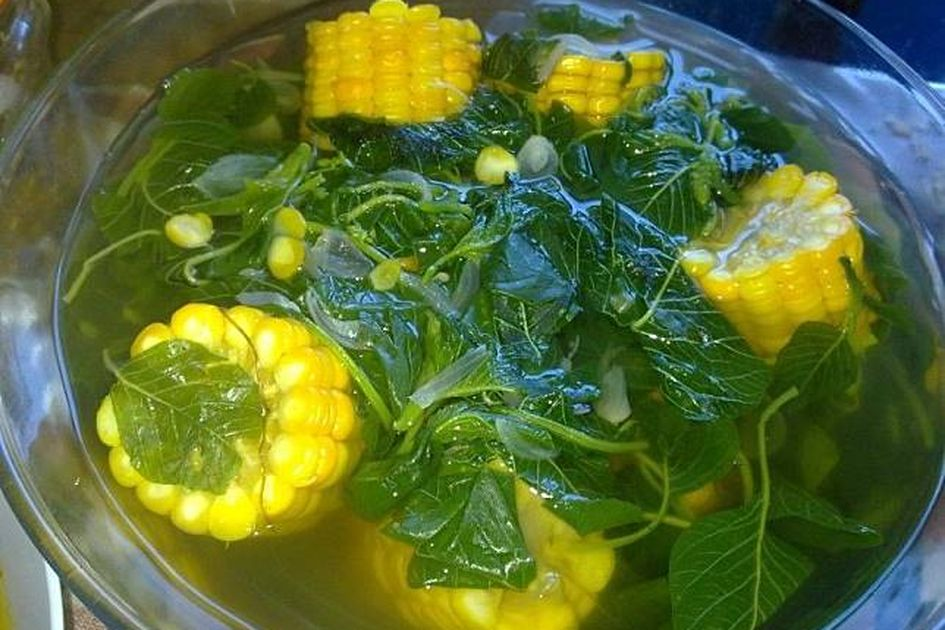Sayur Bayam: (72, 65, 893, 601)
